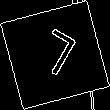L_SW: (29, 25, 81, 85)
